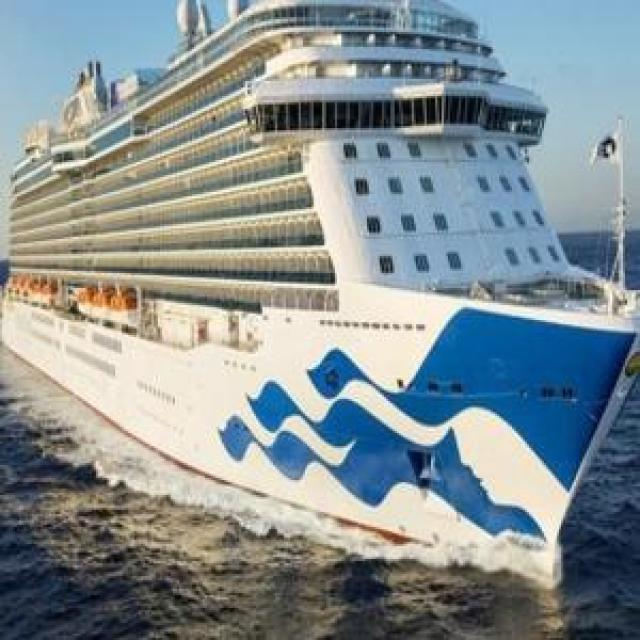passenger ship: (3, 0, 640, 585)
